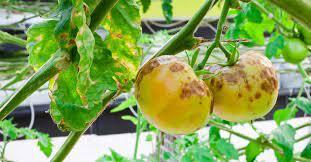tomato early blight: (133, 57, 215, 137), (196, 51, 281, 124)
